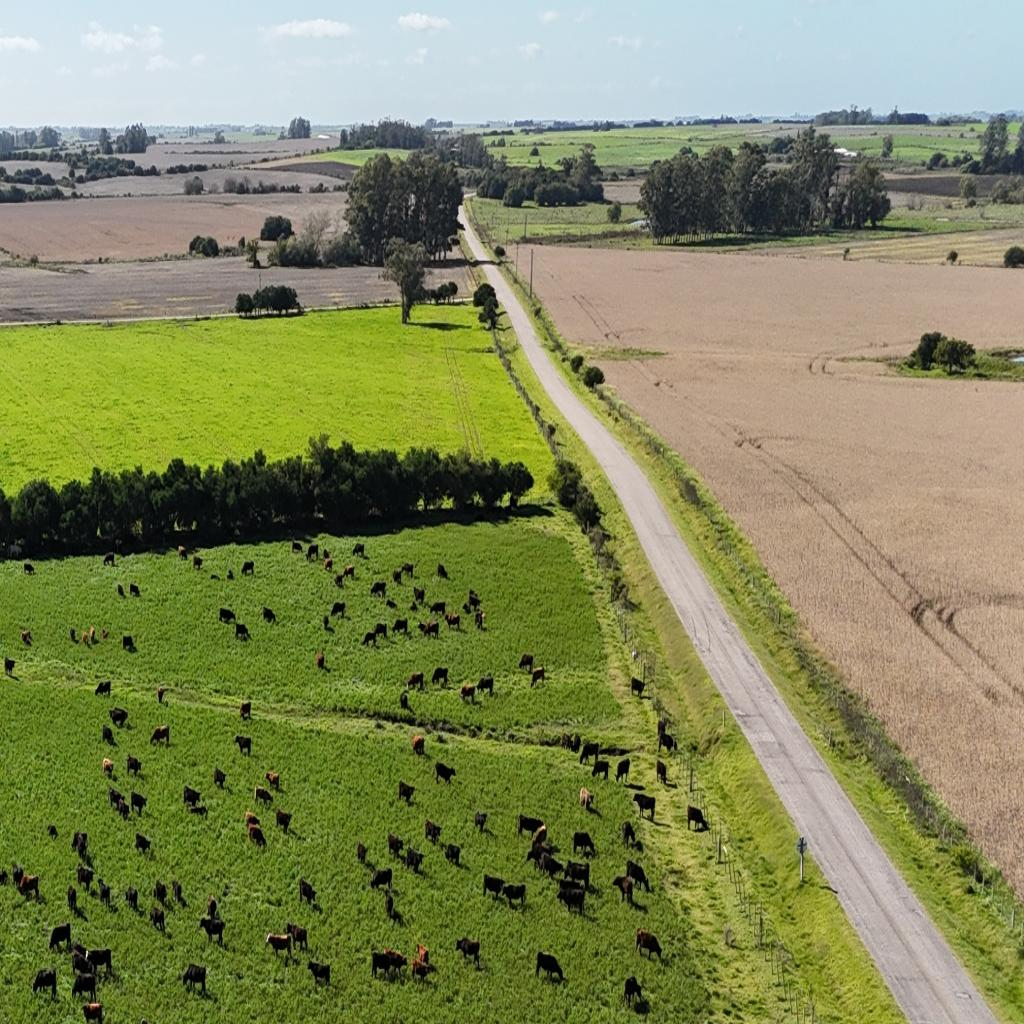cow: (535, 950, 563, 984), (557, 882, 585, 915), (181, 962, 207, 996), (635, 928, 661, 962), (85, 947, 113, 977), (626, 861, 650, 895), (563, 859, 589, 890), (200, 916, 226, 947), (264, 932, 292, 960), (455, 936, 479, 968), (32, 968, 57, 998), (70, 971, 94, 1001), (371, 950, 395, 980), (518, 814, 544, 841), (501, 882, 526, 910), (307, 960, 331, 988), (612, 875, 635, 904), (18, 872, 40, 902), (49, 922, 71, 952), (633, 792, 656, 820), (623, 976, 643, 1008), (482, 873, 504, 902), (573, 830, 595, 859), (286, 921, 307, 951), (540, 852, 562, 880), (70, 943, 89, 975), (383, 947, 406, 973), (526, 842, 546, 871), (687, 804, 706, 833), (370, 867, 392, 892), (76, 863, 94, 893), (82, 1001, 104, 1024), (386, 832, 404, 860), (530, 824, 548, 852), (580, 741, 600, 766), (410, 958, 430, 983), (591, 758, 610, 784), (299, 877, 316, 906), (435, 762, 455, 786), (150, 724, 170, 748), (405, 848, 424, 873), (424, 818, 442, 844), (72, 830, 88, 858), (275, 808, 292, 834), (398, 781, 416, 805), (658, 731, 675, 756), (150, 906, 165, 934), (621, 821, 636, 849), (248, 825, 266, 848), (477, 674, 494, 698), (130, 790, 146, 815), (418, 620, 438, 640), (254, 787, 273, 808), (183, 786, 201, 808), (431, 666, 449, 688), (579, 786, 594, 812), (126, 754, 142, 778), (135, 832, 151, 856), (153, 880, 167, 907), (125, 885, 139, 912), (110, 707, 128, 728), (235, 735, 251, 758), (98, 880, 111, 908), (616, 758, 630, 784), (444, 844, 460, 866), (530, 666, 546, 688), (630, 676, 645, 699), (620, 780, 646, 793), (656, 759, 668, 787), (264, 771, 280, 792), (460, 683, 476, 704), (172, 879, 184, 906), (415, 943, 429, 966), (474, 811, 488, 834), (108, 787, 122, 810), (445, 612, 461, 632), (11, 862, 24, 886), (186, 802, 208, 816), (218, 608, 236, 625), (408, 672, 424, 691), (234, 622, 250, 641), (384, 891, 394, 921), (392, 617, 408, 635), (330, 601, 346, 619), (95, 680, 111, 698), (370, 581, 386, 599), (207, 894, 218, 920), (67, 884, 77, 912), (102, 725, 115, 746), (361, 631, 377, 648), (429, 601, 446, 617), (519, 653, 534, 671), (118, 798, 130, 820), (214, 766, 226, 788), (245, 811, 260, 828), (474, 609, 486, 630), (468, 589, 480, 610), (262, 606, 276, 624), (657, 717, 668, 739), (102, 757, 114, 777), (412, 736, 424, 756), (413, 586, 425, 606), (122, 634, 135, 652), (374, 622, 388, 638), (400, 563, 414, 579), (356, 842, 366, 864), (240, 700, 251, 720), (4, 657, 16, 675), (20, 629, 32, 647), (241, 561, 254, 577), (571, 733, 581, 753), (342, 564, 354, 580), (306, 544, 318, 560), (400, 692, 409, 712), (103, 552, 115, 567), (352, 543, 364, 558), (392, 569, 403, 585), (437, 564, 448, 580), (291, 541, 303, 555), (509, 494, 519, 510), (47, 824, 58, 838), (193, 556, 203, 571), (335, 574, 345, 589), (323, 558, 333, 573), (157, 686, 165, 704), (315, 653, 324, 669), (88, 626, 96, 644), (386, 598, 398, 610), (130, 583, 140, 597), (323, 614, 331, 631), (0, 869, 8, 886), (462, 602, 472, 615), (24, 562, 34, 574), (70, 626, 77, 642), (178, 546, 186, 560), (115, 539, 123, 553), (234, 526, 242, 540), (117, 584, 125, 597), (322, 548, 330, 561), (436, 733, 446, 743), (226, 568, 234, 580), (100, 629, 108, 640), (210, 574, 219, 580)
